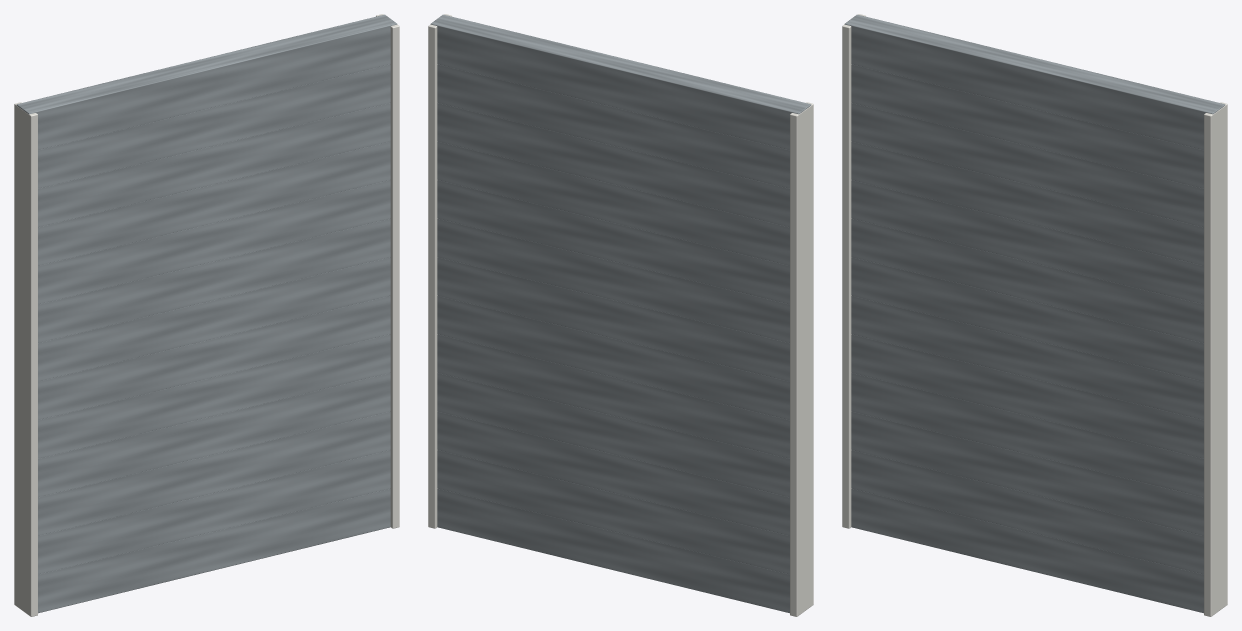
The model's file is paranormal-investigation-house-exterior-wall-9fbb1856__26686.glb.
The picture shows the model from 3 angles, left to right: view 1: azimuth 30°, elevation 25°; view 2: azimuth 150°, elevation 25°; view 3: azimuth 330°, elevation 25°; orthographic projection.
Parts seen in each view (by area): view 1: exterior-wall; view 2: exterior-wall; view 3: exterior-wall.
Part boxes in pixels (<box>): exterior-wall: <box>14,14,399,616</box>; exterior-wall: <box>428,14,813,616</box>; exterior-wall: <box>842,14,1227,616</box>.
Bounding box in the file's own units: 2 × 2.61 × 0.16.
2 materials, 1 textured.
